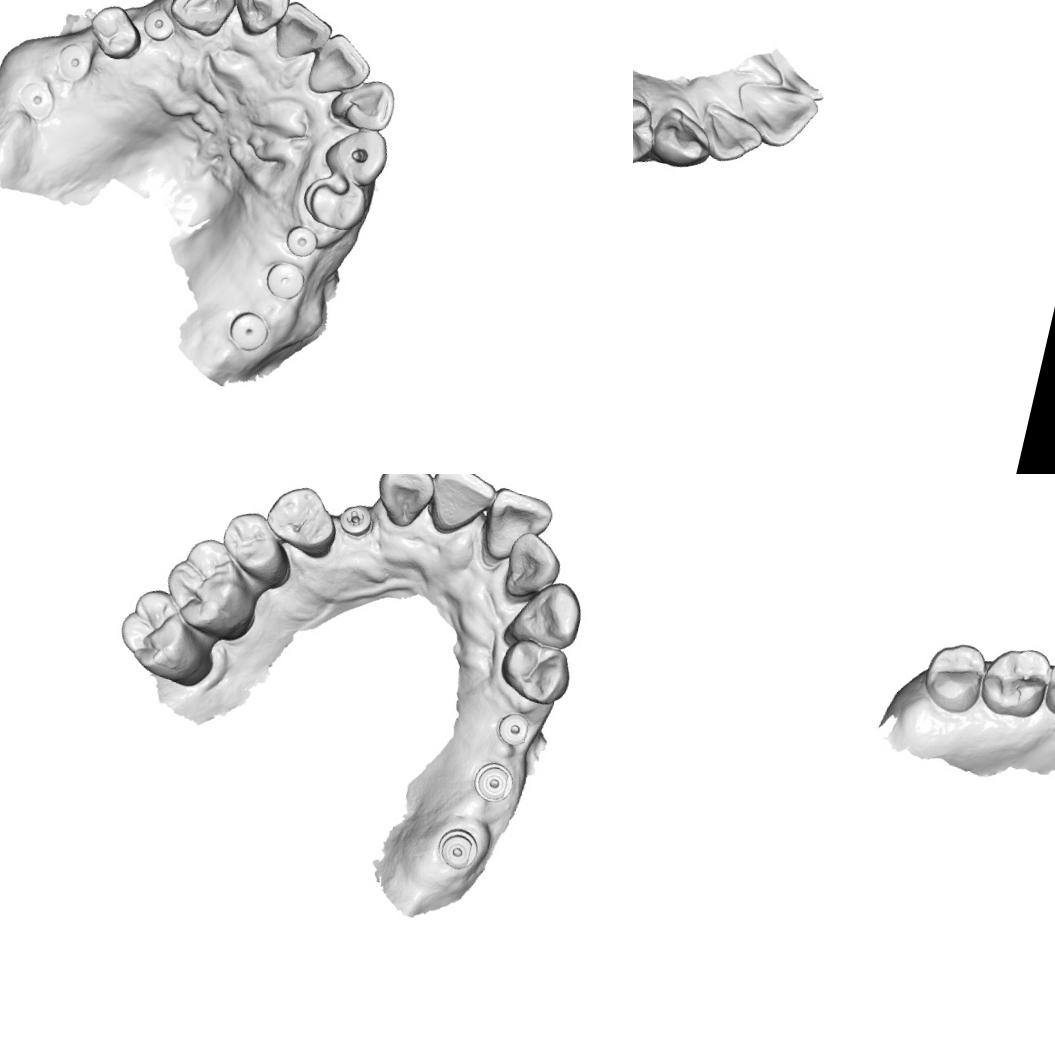canine: (501, 570, 589, 657), (647, 101, 721, 176), (318, 119, 393, 192), (164, 0, 240, 42)
implant: (433, 822, 487, 875), (469, 758, 521, 809), (224, 307, 272, 358), (13, 76, 60, 126), (50, 38, 96, 88), (262, 258, 310, 304), (493, 706, 537, 751), (139, 4, 179, 45), (282, 222, 322, 260)
implant_plus: (335, 498, 378, 541)
incisor: (722, 74, 824, 156), (475, 483, 558, 573), (497, 526, 569, 608), (420, 474, 502, 542), (304, 28, 377, 104), (694, 101, 770, 172), (327, 69, 400, 136), (271, 0, 336, 68), (367, 474, 438, 535), (225, 0, 294, 43)
molar: (156, 530, 268, 644), (110, 582, 216, 686), (975, 638, 1055, 726), (916, 636, 990, 718)
premolar: (257, 476, 346, 560), (492, 632, 578, 712), (214, 504, 294, 582), (298, 169, 372, 235), (83, 0, 149, 65), (633, 90, 666, 173), (1040, 652, 1055, 723)
